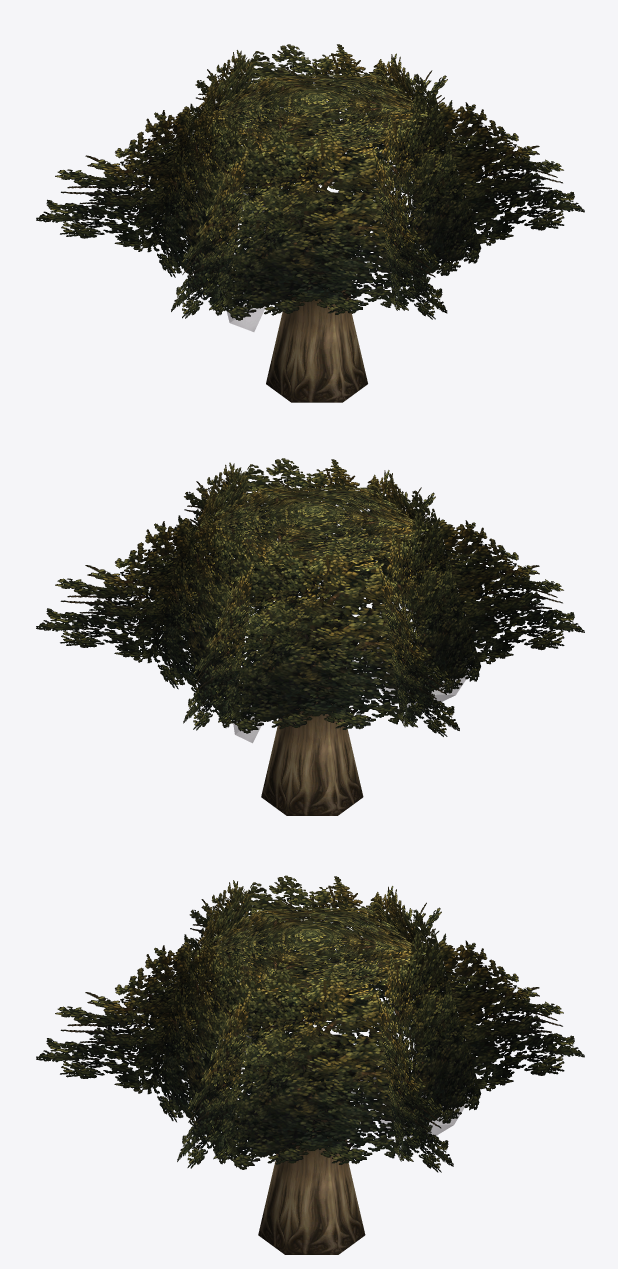
Rendered from duskwoodtreecanopy01.obj.
3 views of the same model, one above another, from view 1: azimuth 30°, elevation 25°; view 2: azimuth 150°, elevation 25°; view 3: azimuth 270°, elevation 25° (orthographic). The views are drawn at different scales.
Visible parts, largest first — view 1: Geoset2, Geoset0, Geoset1; view 2: Geoset2, Geoset0, Geoset1; view 3: Geoset2, Geoset0, Geoset1.
Boxes of the visible parts, left/top/right/bottom form: Geoset2: left=36, top=44, right=584, bottom=320; Geoset0: left=263, top=192, right=367, bottom=402; Geoset1: left=226, top=185, right=265, bottom=331; Geoset2: left=36, top=458, right=584, bottom=736; Geoset0: left=259, top=605, right=363, bottom=815; Geoset1: left=233, top=641, right=474, bottom=743; Geoset2: left=36, top=875, right=584, bottom=1172; Geoset0: left=255, top=1034, right=365, bottom=1254; Geoset1: left=243, top=1026, right=474, bottom=1143.
Bounding box in the file's own units: 79.17 × 50.09 × 84.55.
Materials: 3 (3 with a texture image).
